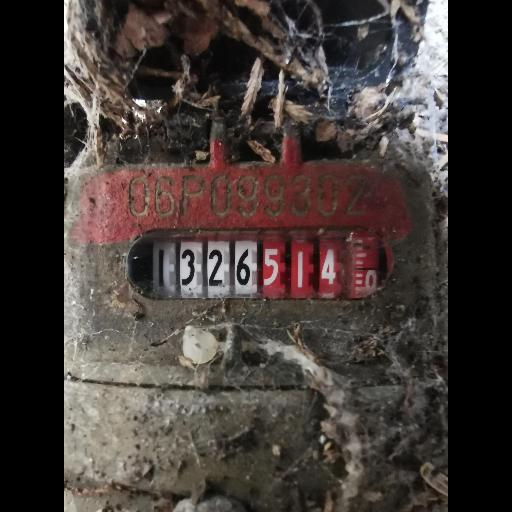1: (285, 236, 316, 300), (149, 238, 177, 299)
2: (205, 238, 234, 299)
3: (176, 236, 206, 298)
4: (314, 237, 347, 300)
5: (258, 236, 287, 299)
6: (232, 236, 258, 298)
7: (345, 236, 381, 298)
border_water_meter_number: (124, 226, 394, 302)
